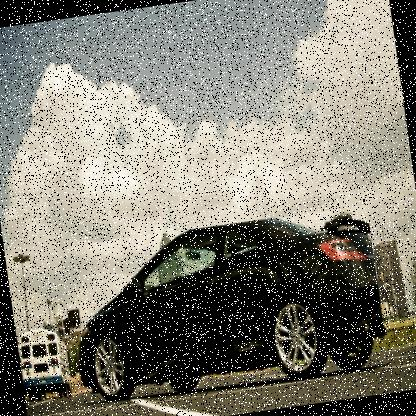Car: (58, 205, 390, 412)
